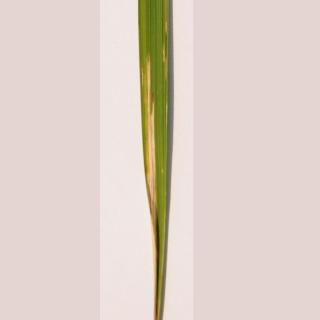Hawar-Daun: (130, 63, 170, 235), (146, 207, 166, 309), (149, 16, 185, 66)
